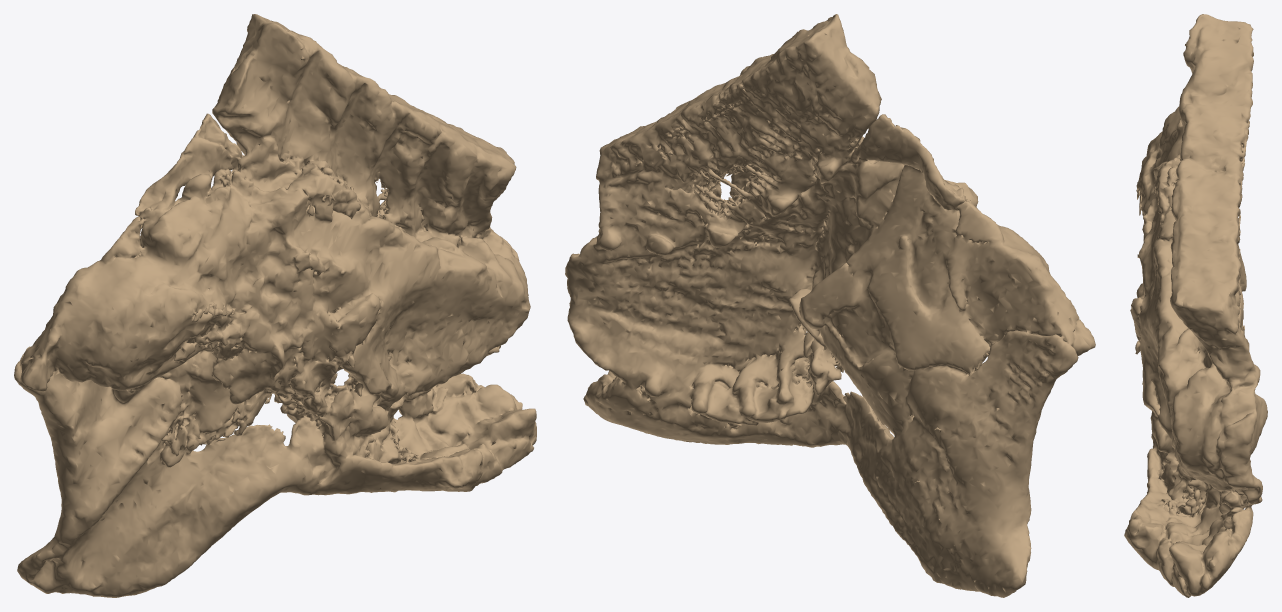
Rendered from parasaurolophus-juvenile-skull.glb.
3 views of the same model, side by side, from view 1: azimuth 30°, elevation 25°; view 2: azimuth 150°, elevation 25°; view 3: azimuth 270°, elevation 25° (orthographic). The views are drawn at different scales.
Parts seen in each view (by area): view 1: RAM 14000 — juvenile Parasaurolophus right skull, neck and m; view 2: RAM 14000 — juvenile Parasaurolophus right skull, neck and m; view 3: RAM 14000 — juvenile Parasaurolophus right skull, neck and m.
Boxes of the visible parts, x1,y1,x2,y2 form: RAM 14000 — juvenile Parasaurolophus right skull, neck and m: [14, 14, 536, 597]; RAM 14000 — juvenile Parasaurolophus right skull, neck and m: [565, 14, 1095, 597]; RAM 14000 — juvenile Parasaurolophus right skull, neck and m: [1124, 14, 1267, 597].
Bounding box in the file's own units: 0.2825 × 0.2849 × 0.0697.
